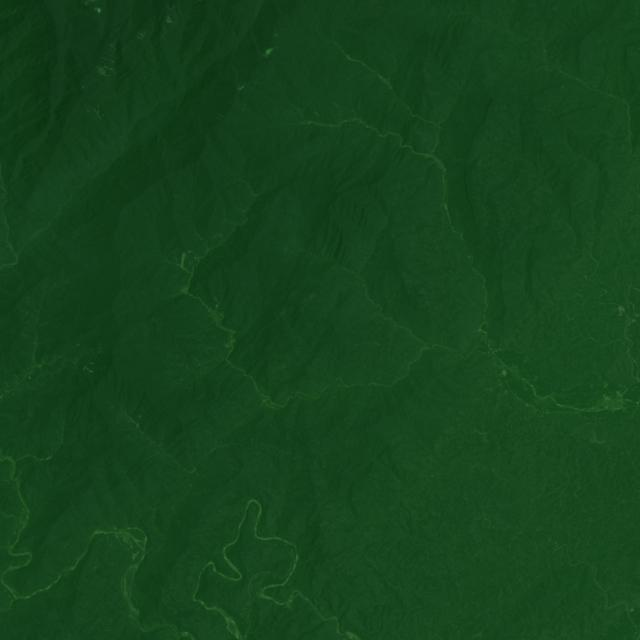landslides: (96, 66, 112, 78), (166, 15, 179, 28), (105, 66, 117, 76), (93, 107, 101, 121), (101, 57, 116, 64)
